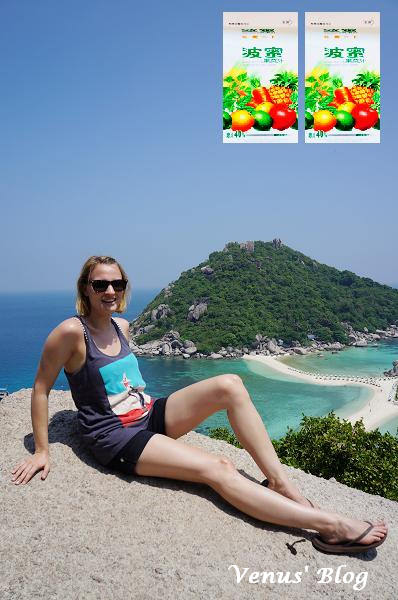vegetables juice: (216, 26, 302, 150), (297, 20, 383, 144)
